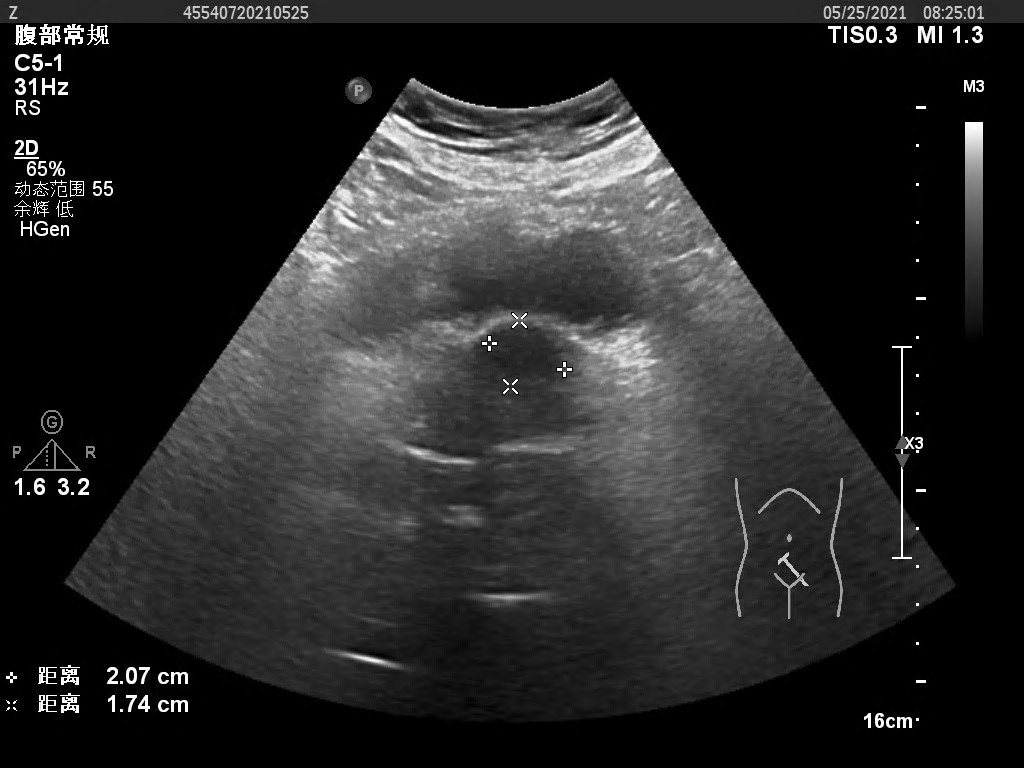肌瘤: (490, 321, 571, 391)
